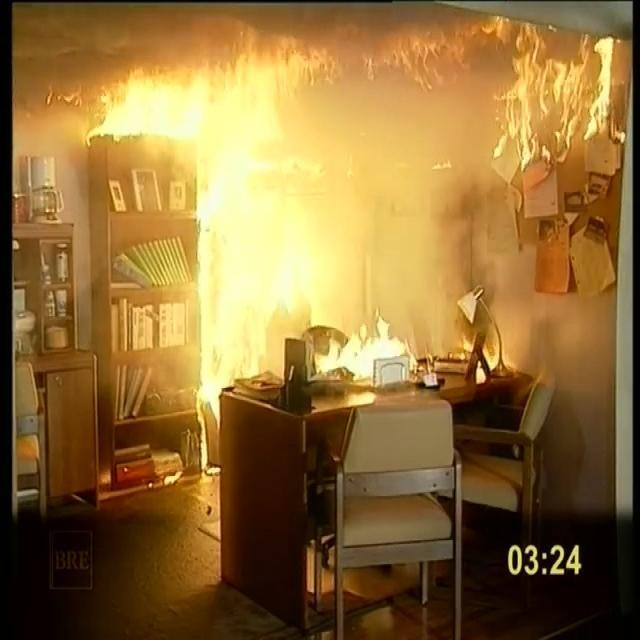Fire: (15, 1, 640, 485)
